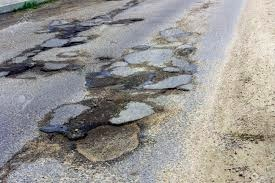pothole: (74, 121, 140, 162), (21, 133, 76, 160), (86, 78, 137, 98), (70, 101, 110, 121), (6, 64, 61, 76), (132, 64, 167, 76), (158, 85, 188, 97), (59, 38, 89, 48), (109, 19, 142, 25), (96, 53, 115, 63)
